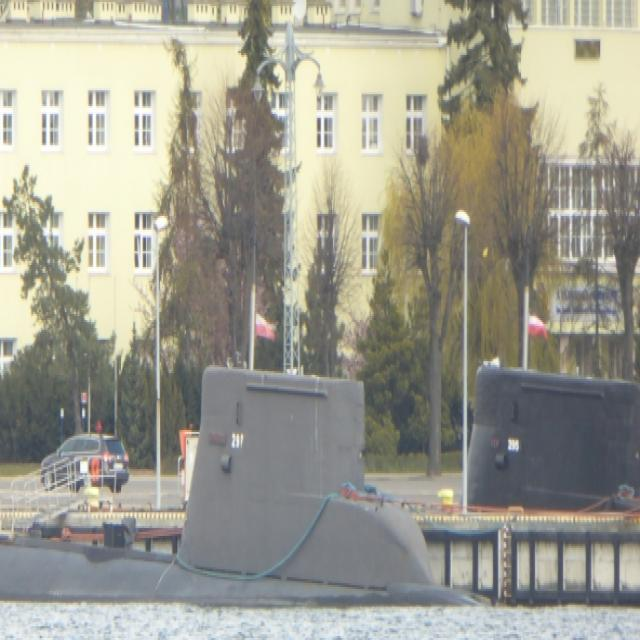submarine: (1, 372, 481, 614)
